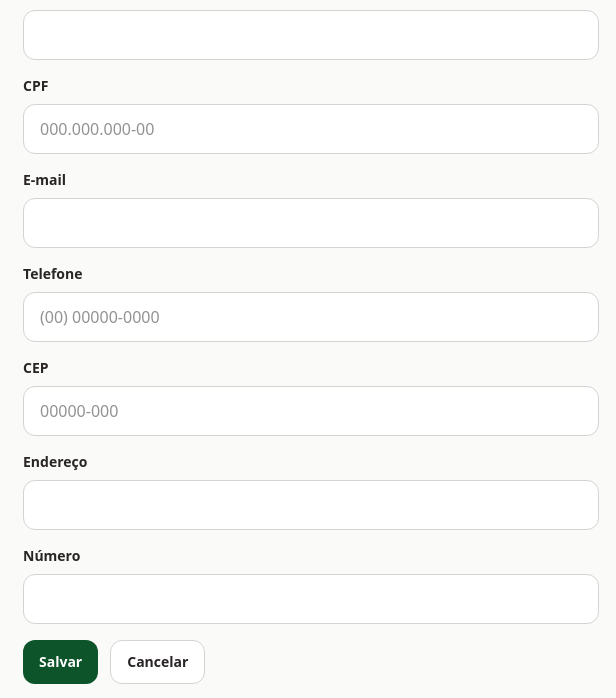
it: BuyerFormPage › valida campos obrigatórios e formatos
Click the button "Salvar" at (61, 662), box [23,640,98,684]
(page scrolled)
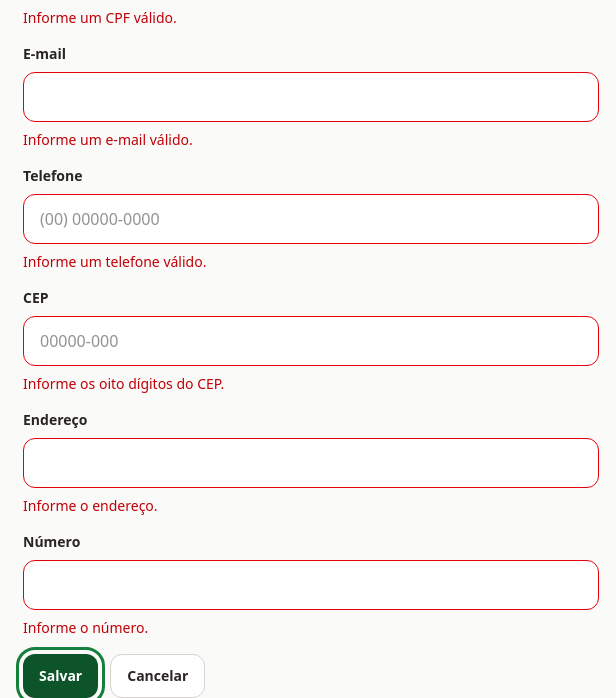
Check: the text "Informe um CPF válido." is shown, box [23,8,177,27]
Check: the text "Informe um e-mail válido." is shown, box [23,130,193,149]
Check: the text "Informe um telefone válido." is shown, box [23,252,206,271]
